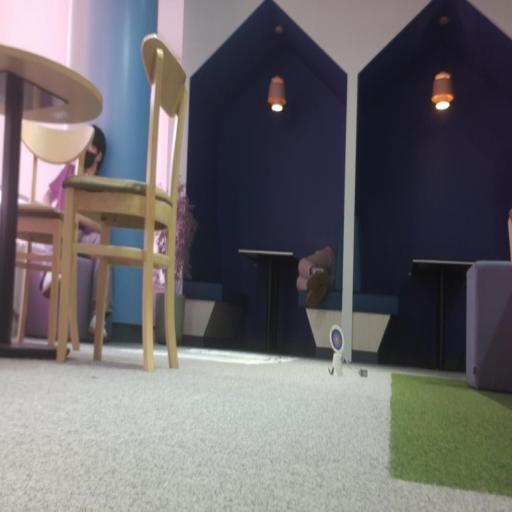target: (330, 325, 344, 354)
